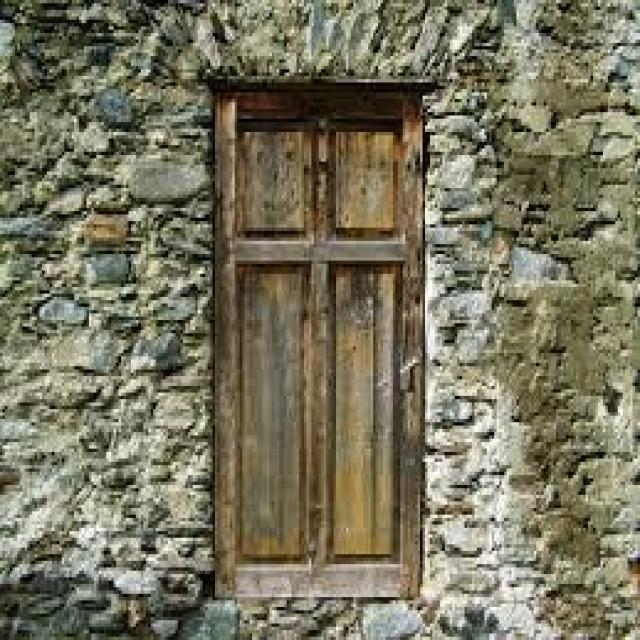Door: (215, 92, 413, 584)
